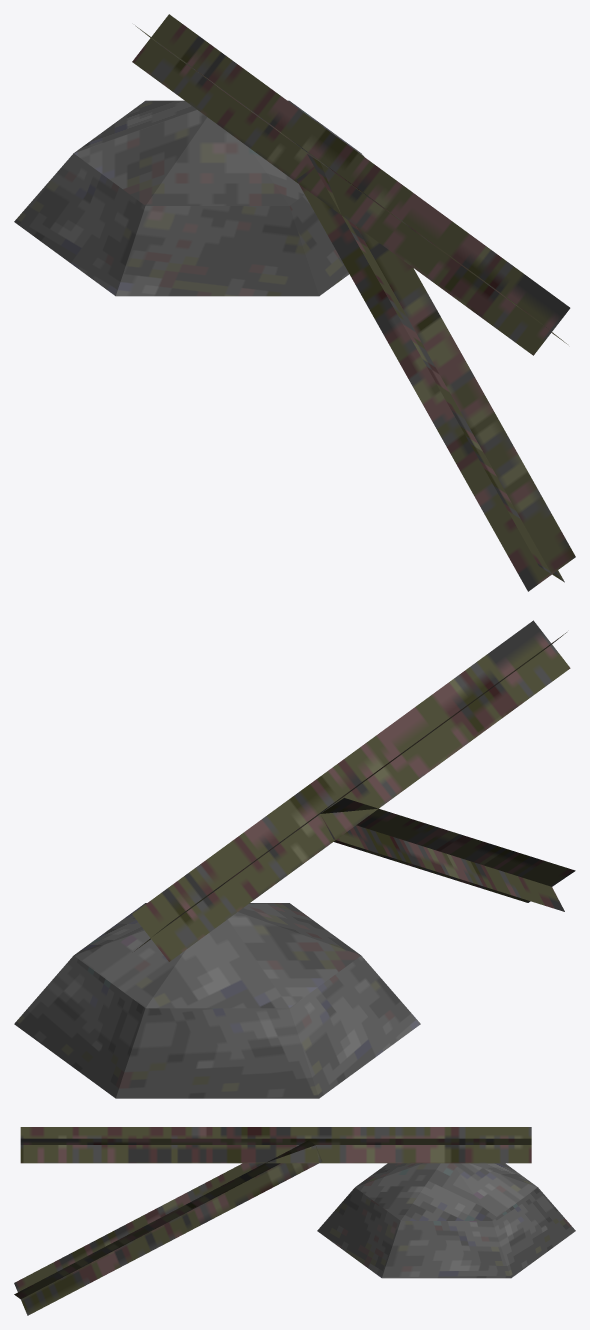
The model's file is Light1.glb.
3 views of the same model, one above another, from view 1: azimuth 30°, elevation 25°; view 2: azimuth 150°, elevation 25°; view 3: azimuth 270°, elevation 25° (orthographic). The views are drawn at different scales.
Visible parts, largest first — view 1: Sphere, Plane, Plane.001; view 2: Sphere, Plane, Plane.001; view 3: Sphere, Plane, Plane.001.
Boxes of the visible parts, x1,y1,x2,y2 form: Sphere: (14,100,363,296); Plane: (132,14,570,355); Plane.001: (296,154,575,591); Sphere: (14,903,420,1098); Plane: (132,620,570,961); Plane.001: (321,798,575,911); Sphere: (317,1163,575,1278); Plane: (20,1127,531,1163); Plane.001: (14,1140,322,1315).
Bounding box in the file's own units: 1.32 × 1.15 × 3.3.
1 material, 1 textured.
